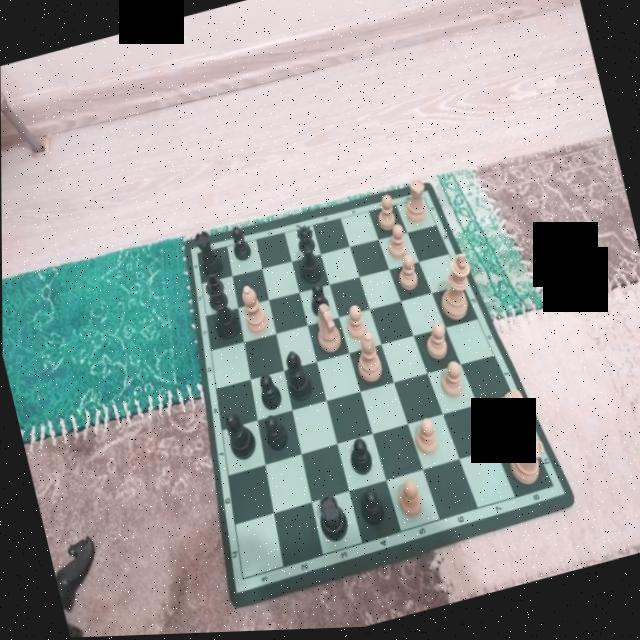chess-table-corners: (415, 192, 431, 208), (235, 573, 249, 587), (546, 482, 557, 497), (192, 249, 202, 260)
